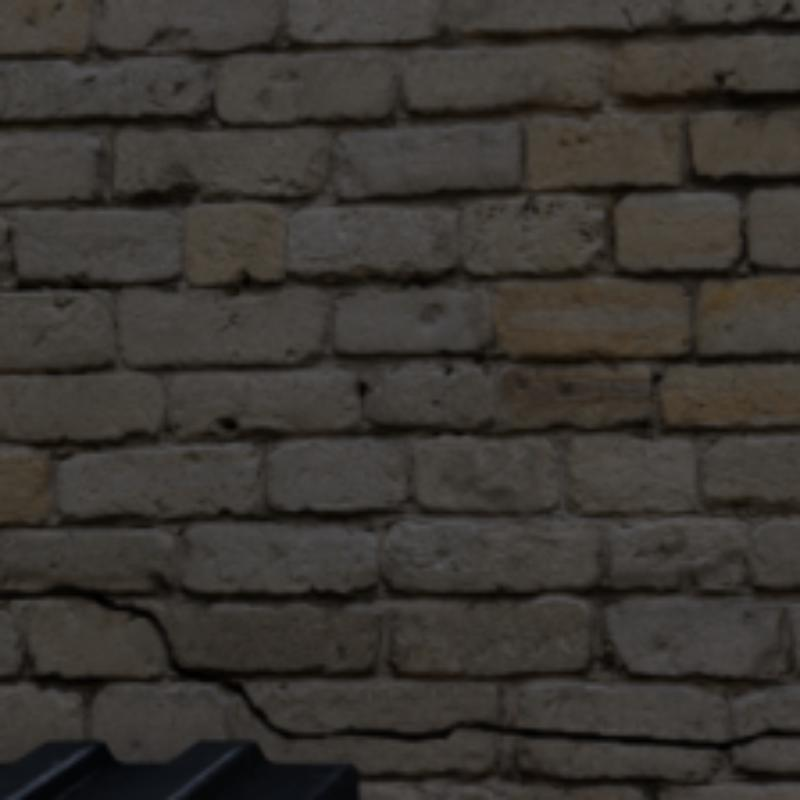crack: (36, 582, 298, 736), (304, 721, 796, 746)
